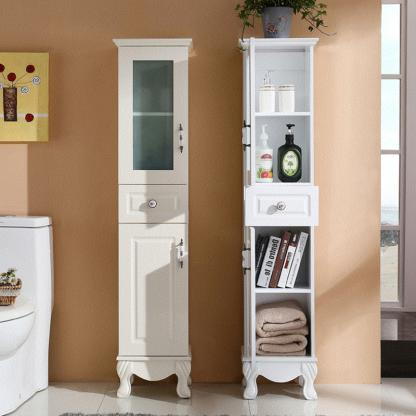Cupboard: (107, 37, 194, 396)
